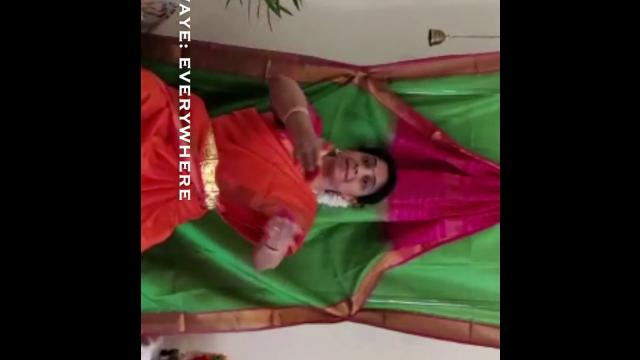mrighasheesh: (280, 125, 340, 189)
